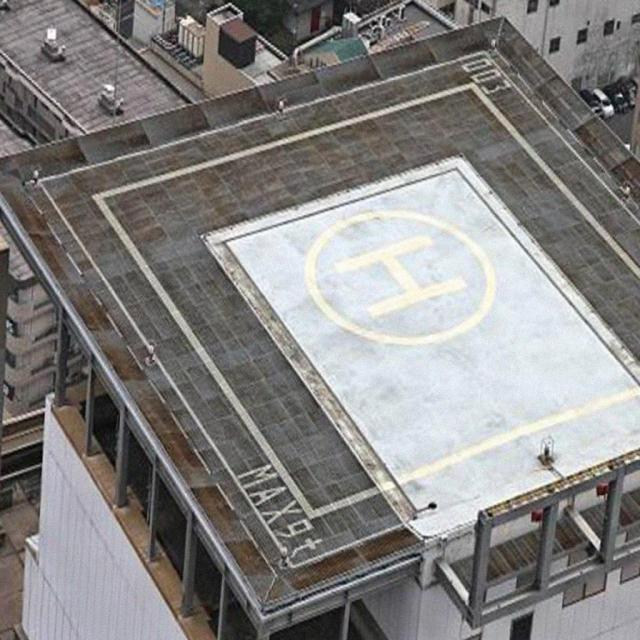helipad: (296, 203, 503, 348)
